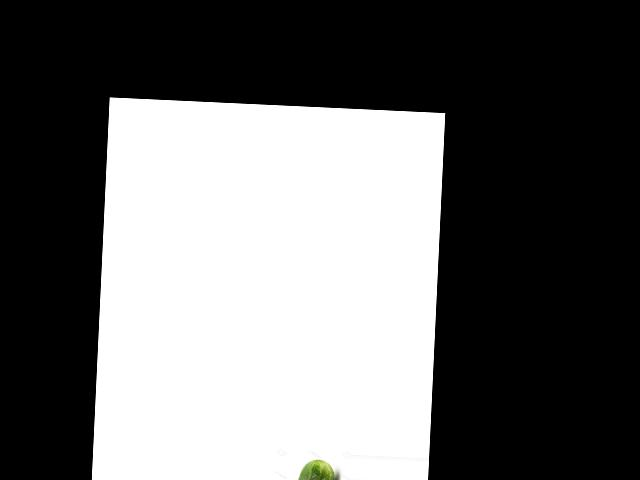cucumber: (291, 458, 335, 480)
